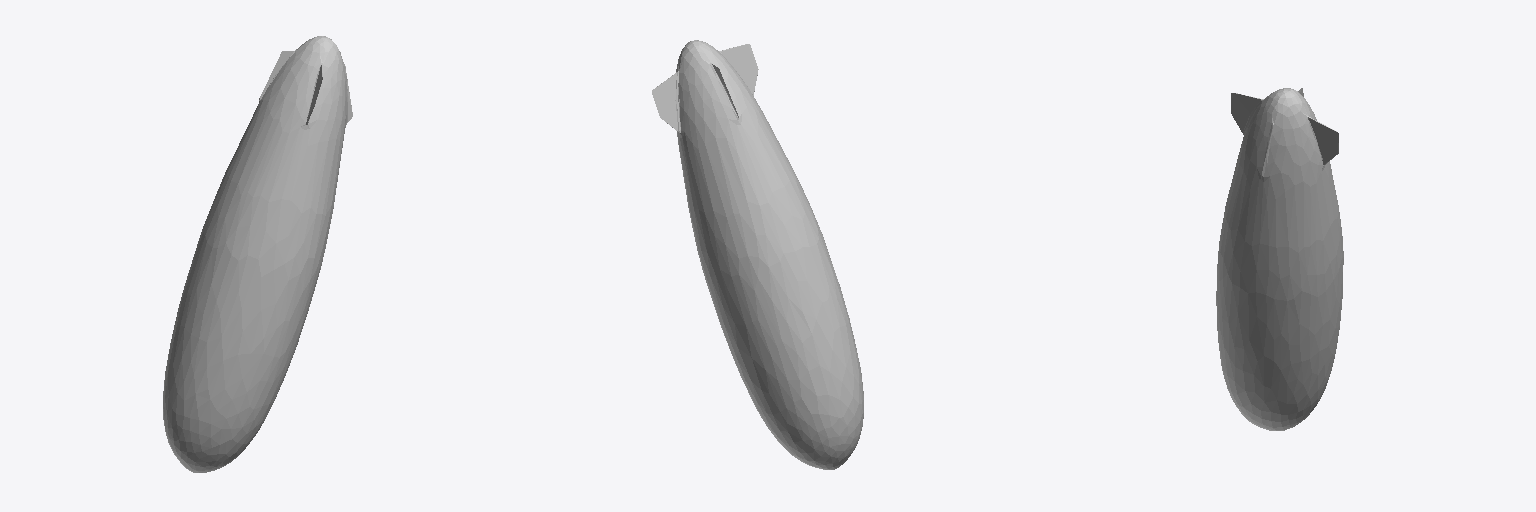
File: blimp.obj
3 views of the same model, side by side, from view 1: azimuth 30°, elevation 25°; view 2: azimuth 150°, elevation 25°; view 3: azimuth 270°, elevation 25° (orthographic).
Bounding box in the file's own units: 20.69 × 44.83 × 12.96.